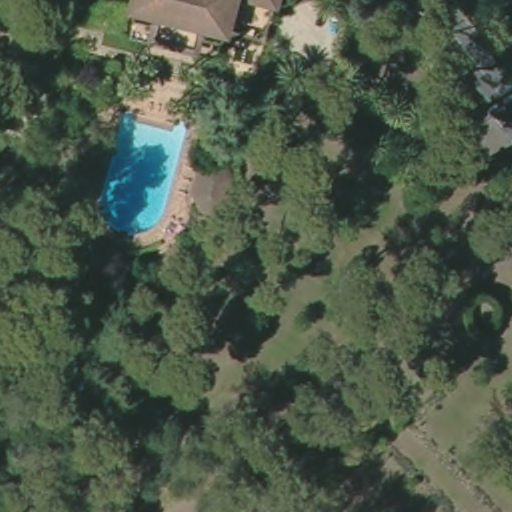pool: (104, 112, 191, 240)
